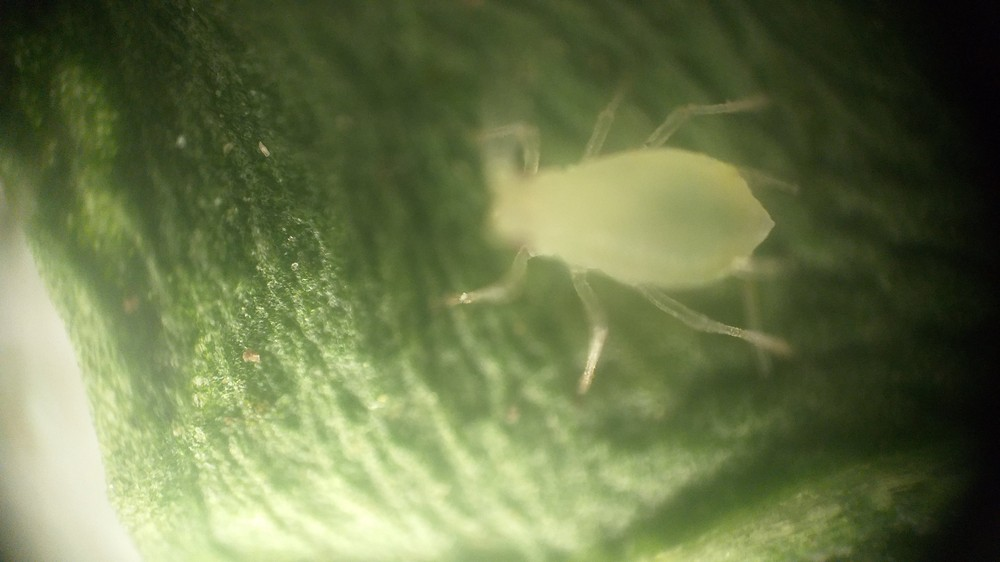Pulgon: (440, 66, 852, 407)
